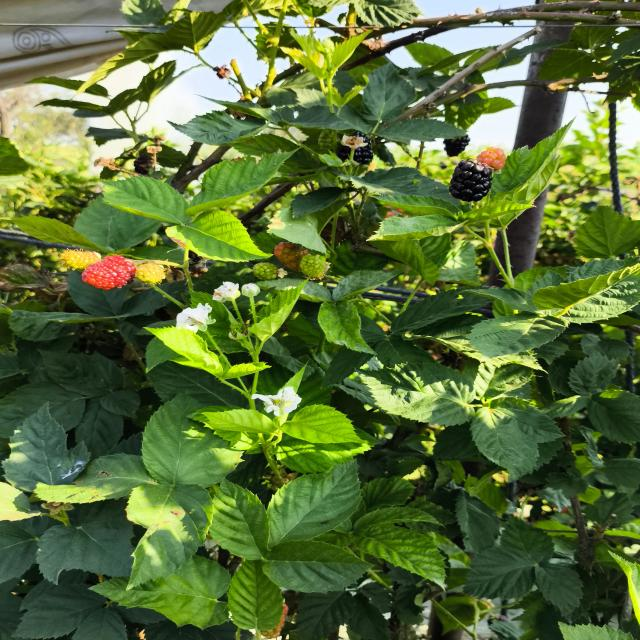boton: (241, 283, 260, 298)
flor: (251, 386, 302, 417), (176, 303, 216, 332), (213, 282, 240, 302)
maduro: (449, 160, 492, 202), (353, 136, 373, 165), (336, 144, 350, 161), (351, 131, 363, 137)
naranja: (81, 255, 136, 290), (274, 242, 309, 272), (476, 147, 506, 171)
verde: (60, 250, 101, 270), (299, 255, 329, 279), (135, 262, 166, 285), (253, 262, 278, 280), (318, 130, 336, 152)
